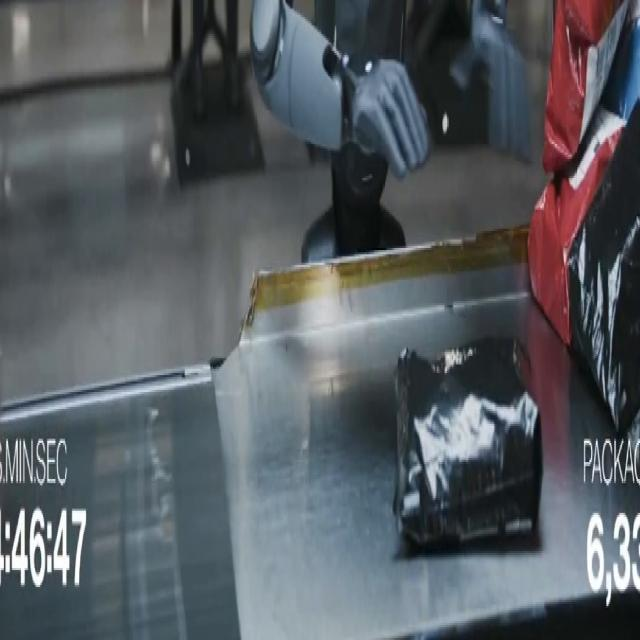package: (394, 340, 542, 546), (568, 106, 639, 434), (528, 109, 624, 345), (543, 0, 628, 173), (602, 0, 639, 120)
